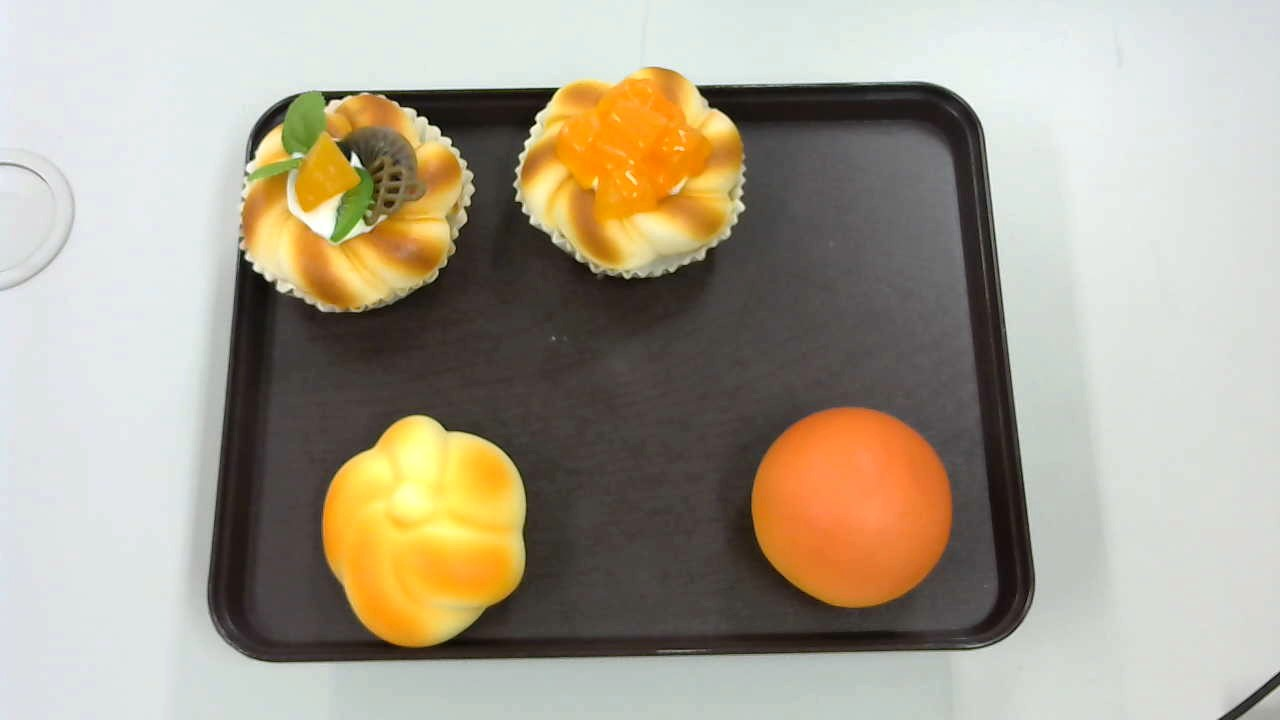bun: (753, 404, 953, 608)
fruit tart: (240, 92, 475, 310)
mango tart: (511, 67, 749, 282)
twist bread: (320, 414, 529, 650)
